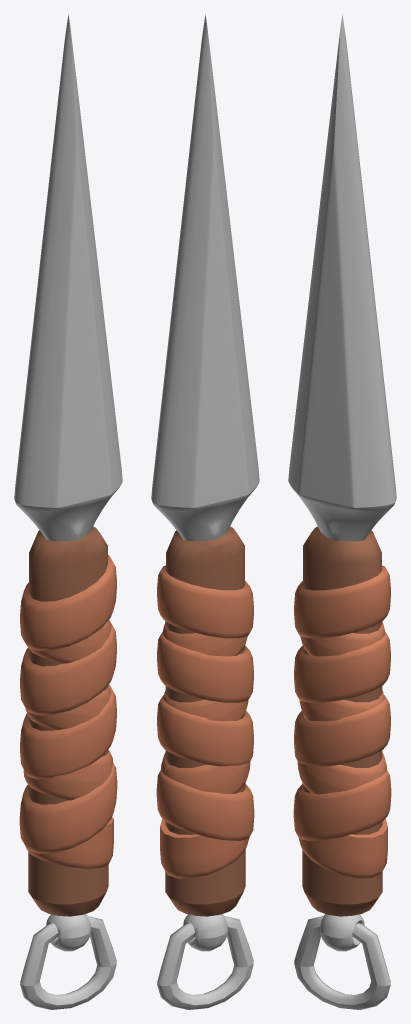
The model's file is kunai.fbx.
The picture shows the model from 3 angles, left to right: view 1: azimuth 30°, elevation 25°; view 2: azimuth 210°, elevation 25°; view 3: azimuth 330°, elevation 25°; orthographic projection.
Parts seen in each view (by area): view 1: kunai; view 2: kunai; view 3: kunai.
Boxes of the visible parts, x1,y1,x2,y2 form: kunai: (14,14,122,1009); kunai: (151,14,259,1009); kunai: (288,14,396,1009).
Size of the model in its own units: 150 by 1349 by 106.
